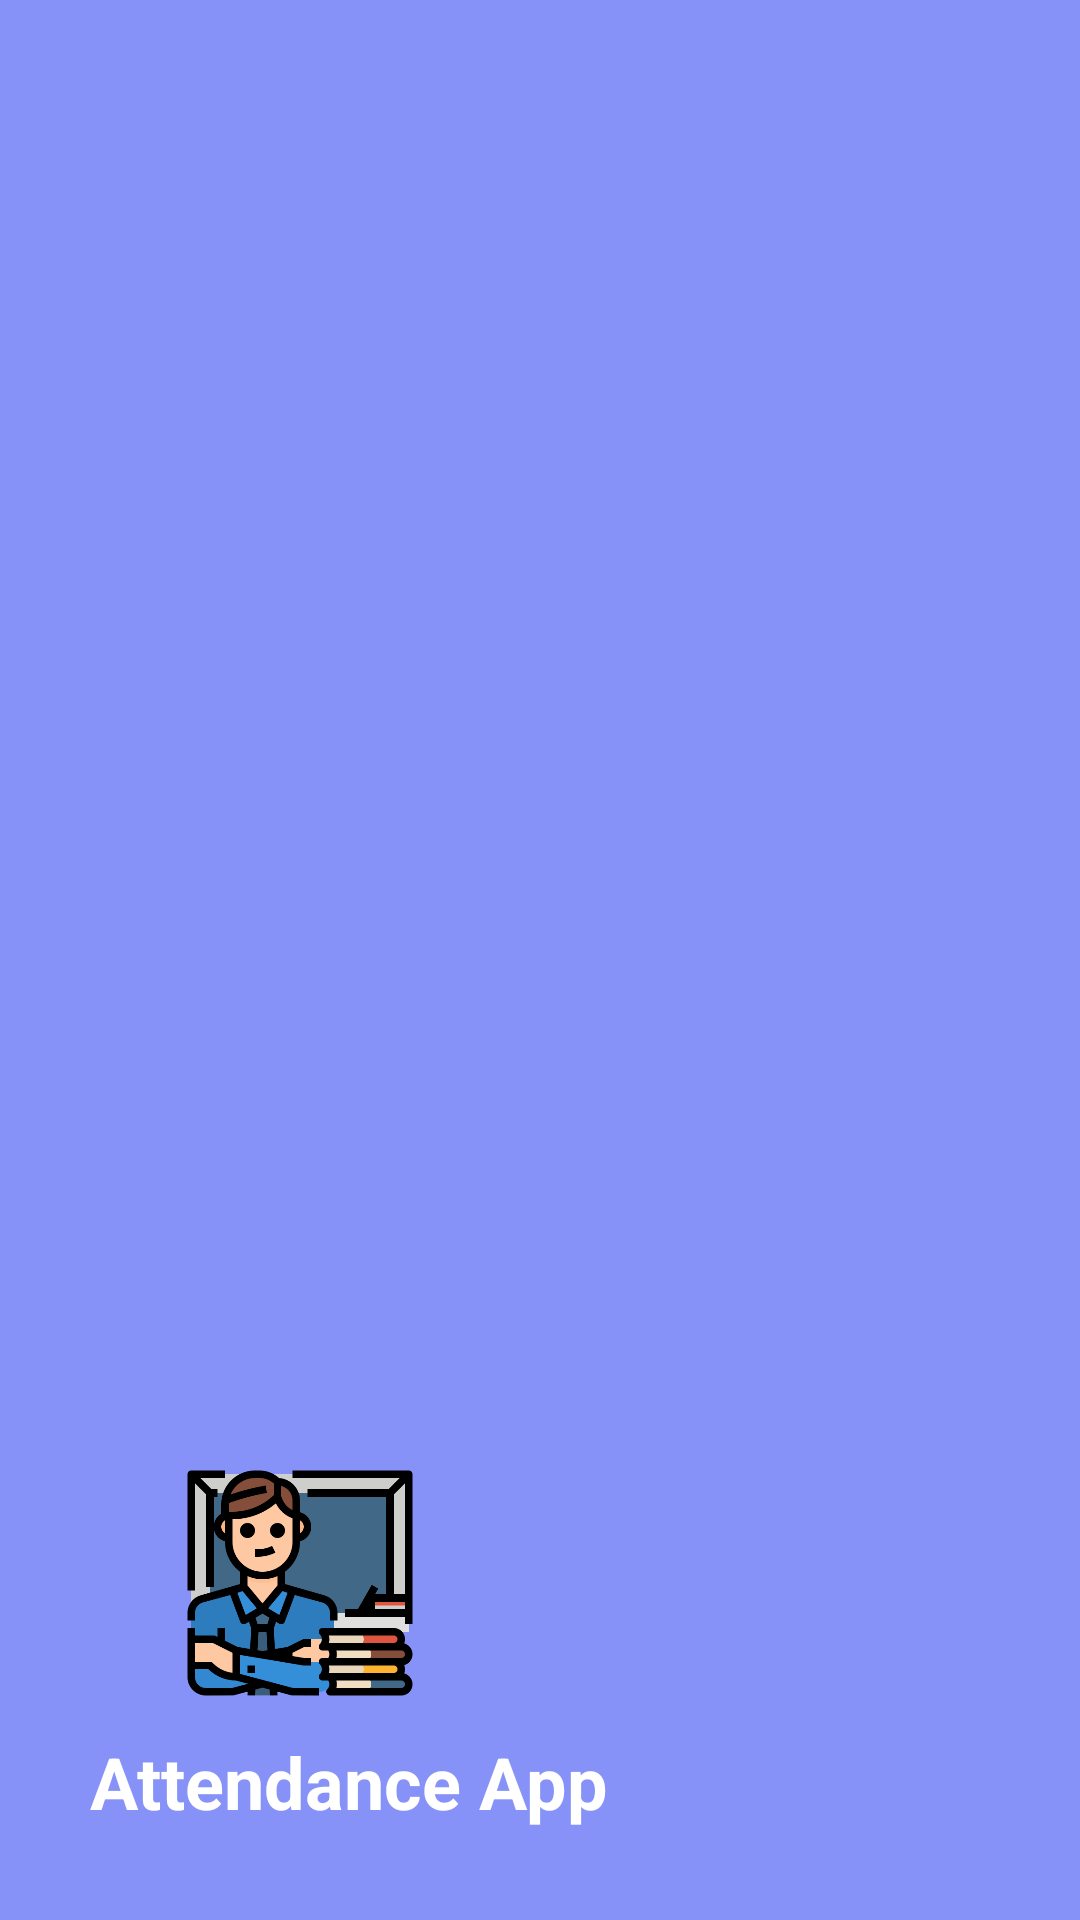

Where icons sit on this 1080*1920 app screen, as (x1, y1, x2, y2):
teacher: (187, 1470, 413, 1696)
